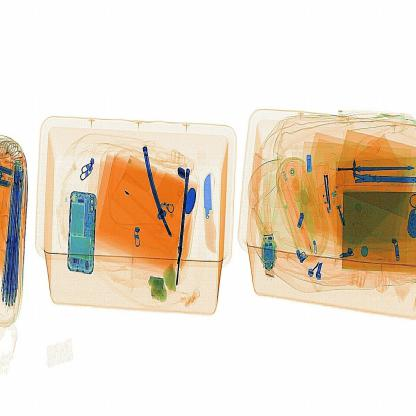wrench: (200, 170, 220, 257)
